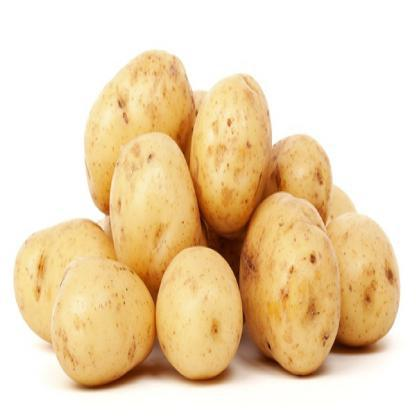potato: (42, 236, 182, 414), (226, 180, 347, 378), (73, 47, 206, 221), (100, 123, 210, 312), (318, 198, 404, 357), (154, 234, 240, 392), (191, 60, 268, 228)
